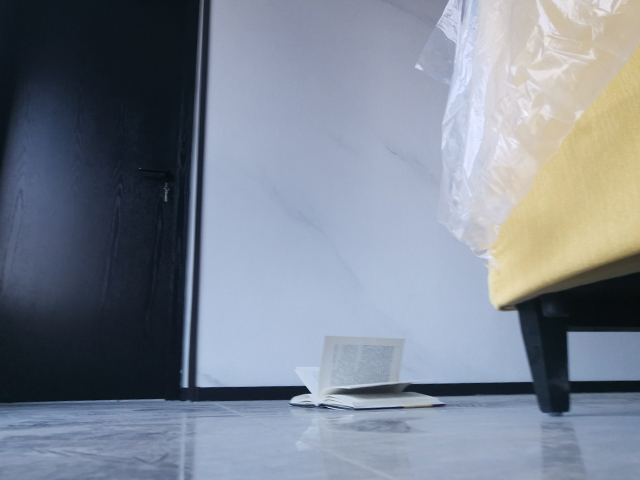book: (287, 333, 448, 413)
sofa: (468, 1, 640, 418)
